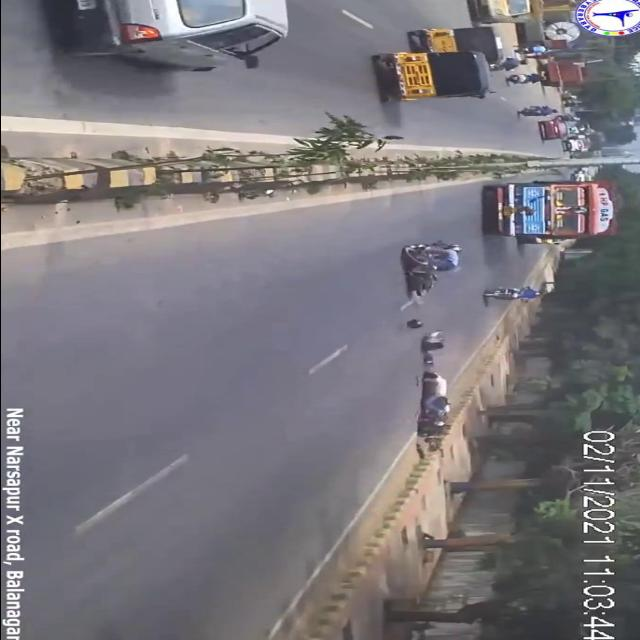accident: (385, 239, 479, 453)
non_accident: (361, 21, 531, 109), (480, 174, 620, 253), (541, 127, 615, 159)
